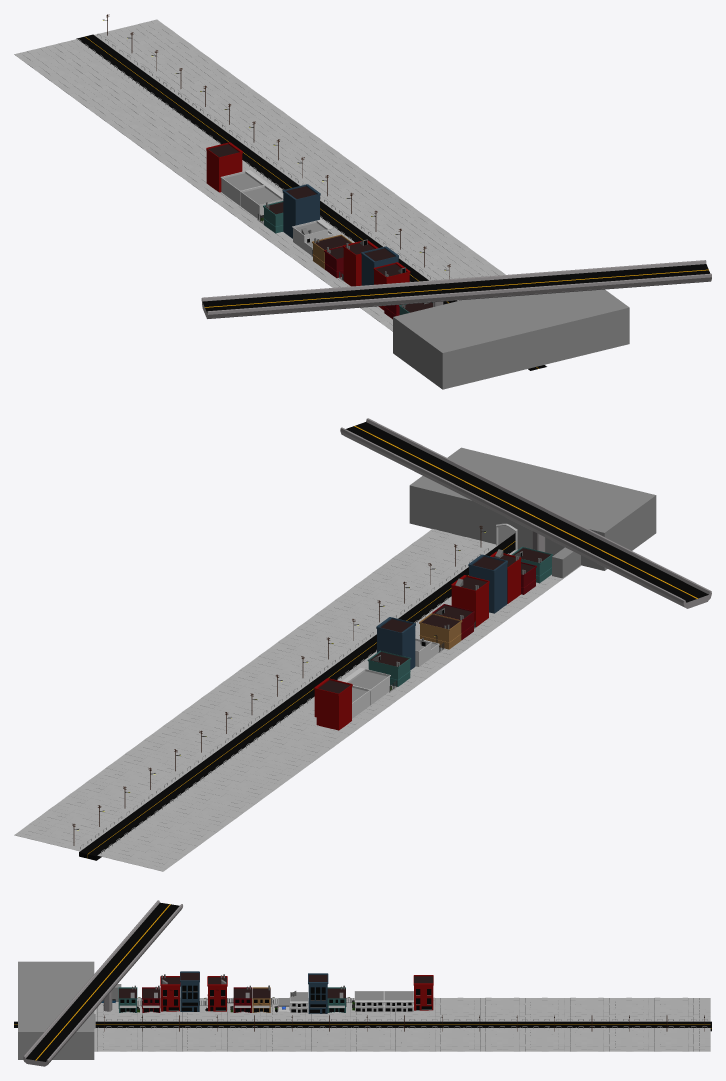
Rendered from Scene1_importForTest.fbx.
3 renders of one model, top to bottom at view 1: azimuth 30°, elevation 25°; view 2: azimuth 150°, elevation 25°; view 3: azimuth 270°, elevation 25°, orthographic. The views are drawn at different scales.
Parts seen in each view (by area): view 1: OriginRoad, Cube.007, overpass.001, Building_red.002, Building_red.004, Cube.008, Building_red, Cube.001, Building_red.003, Cube.009, Building_red.001, Building_low_darkYellow; view 2: OriginRoad, Cube.007, overpass.001, Building_red.004, Building_red.003, Building_red.002, Building_red, Building_low_darkYellow, Building_low_red.002, Cube.008, Building_low_red.003; view 3: OriginRoad, Cube.007, overpass.001, Building_red.002, Building_red.003, Building_red.004, Building_red, Building_red.001, Cube.008, Cube.001, Cube.009, Building_low_red.003 (+4 smaller).
Part boxes in pixels (left/top/right/bottom): OriginRoad: left=14, top=19, right=546, bottom=370; Cube.007: left=393, top=289, right=629, bottom=389; overpass.001: left=201, top=260, right=711, bottom=318; Building_red.002: left=282, top=184, right=320, bottom=238; Building_red.004: left=206, top=142, right=242, bottom=192; Cube.008: left=240, top=184, right=283, bottom=219; Building_red: left=343, top=240, right=378, bottom=286; Cube.001: left=220, top=170, right=268, bottom=205; Building_red.003: left=361, top=246, right=398, bottom=285; Cube.009: left=292, top=219, right=333, bottom=255; Building_red.001: left=373, top=262, right=410, bottom=310; Building_low_darkYellow: left=312, top=234, right=352, bottom=269; OriginRoad: left=14, top=529, right=581, bottom=871; Cube.007: left=409, top=447, right=656, bottom=578; overpass.001: left=340, top=418, right=711, bottom=608; Building_red.004: left=314, top=678, right=352, bottom=730; Building_red.003: left=468, top=554, right=507, bottom=613; Building_red.002: left=376, top=617, right=415, bottom=669; Building_red: left=451, top=575, right=489, bottom=626; Building_low_darkYellow: left=419, top=613, right=462, bottom=649; Building_low_red.002: left=367, top=650, right=411, bottom=686; Cube.008: left=342, top=667, right=390, bottom=705; Building_low_red.003: left=511, top=546, right=552, bottom=583; OriginRoad: left=14, top=997, right=710, bottom=1051; Cube.007: left=18, top=961, right=121, bottom=1059; overpass.001: left=23, top=900, right=182, bottom=1066; Building_red.002: left=308, top=973, right=328, bottom=1013; Building_red.003: left=180, top=971, right=199, bottom=1011; Building_red.004: left=413, top=975, right=433, bottom=1010; Building_red: left=207, top=976, right=227, bottom=1011; Building_red.001: left=160, top=976, right=180, bottom=1011; Cube.008: left=354, top=991, right=384, bottom=1011; Cube.001: left=384, top=991, right=413, bottom=1011; Cube.009: left=277, top=992, right=308, bottom=1012; Building_low_red.003: left=118, top=985, right=137, bottom=1012.
Bounding box in the file's own units: 20221 × 2296 × 37242.
